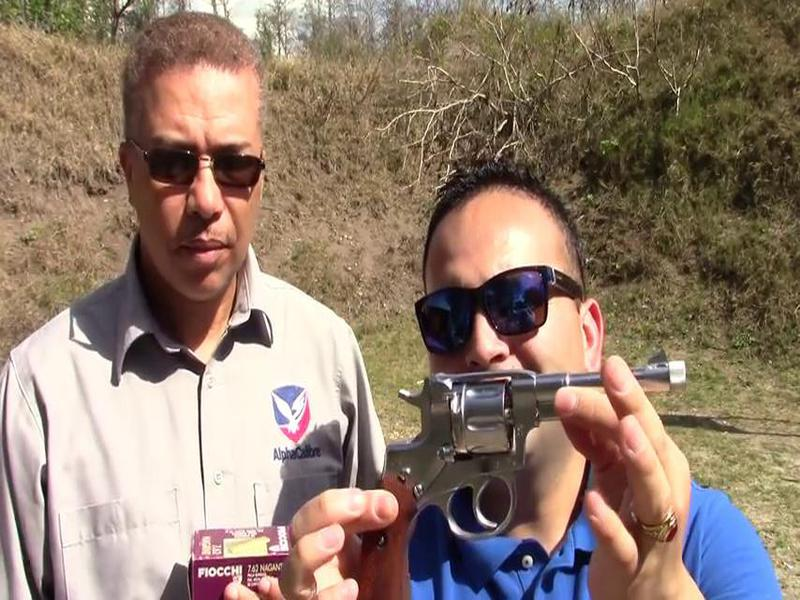Revolver: (317, 319, 679, 600)
